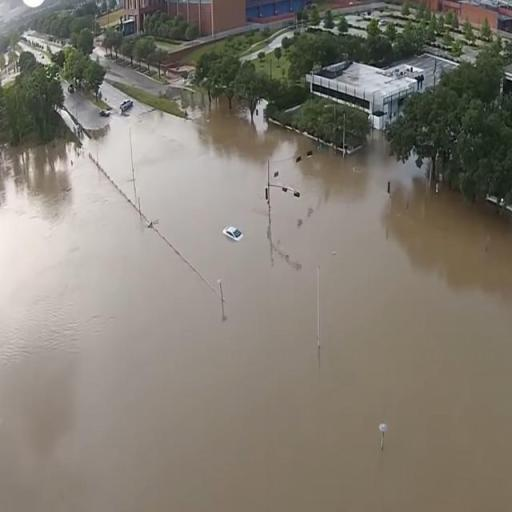flood: (0, 103, 512, 512)
house: (316, 57, 421, 138), (139, 0, 248, 38), (430, 0, 512, 46)
